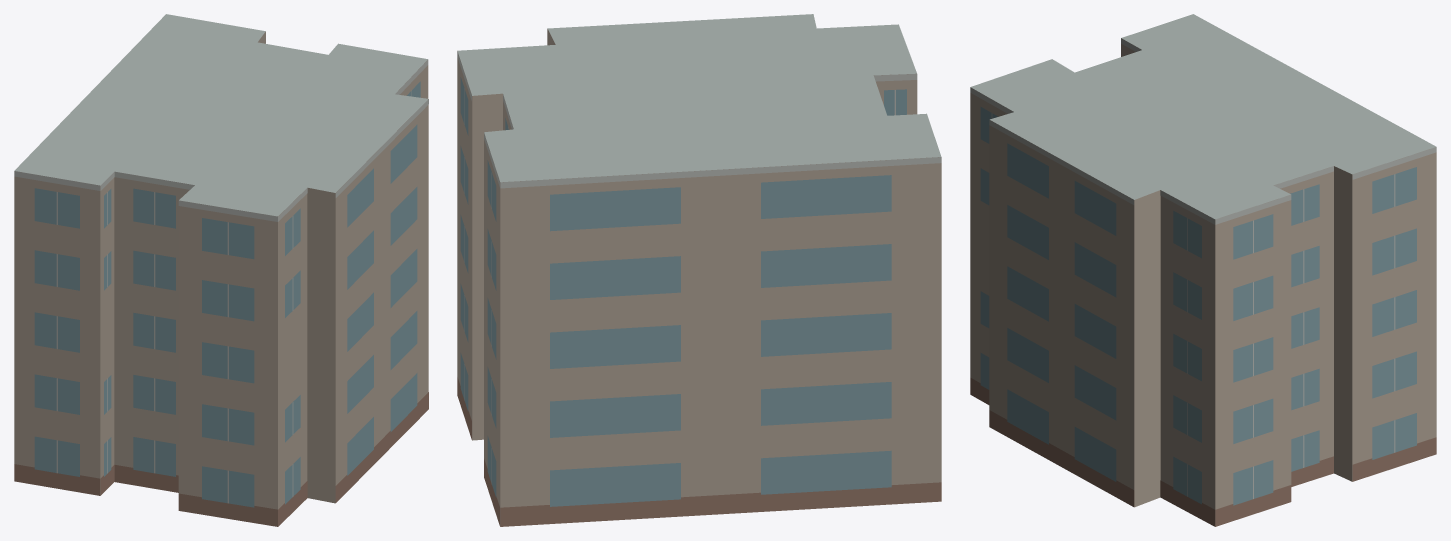
The model's file is survey-upis-32811555.glb.
3 renders of one model, left to right at view 1: azimuth 30°, elevation 25°; view 2: azimuth 150°, elevation 25°; view 3: azimuth 270°, elevation 25°, orthographic. The views are drawn at different scales.
Parts seen in each view (by area): view 1: survey-upis-32811555.tmp; view 2: survey-upis-32811555.tmp; view 3: survey-upis-32811555.tmp.
Boxes of the visible parts, x1,y1,x2,y2 form: survey-upis-32811555.tmp: [14, 14, 428, 526]; survey-upis-32811555.tmp: [457, 14, 941, 526]; survey-upis-32811555.tmp: [970, 14, 1436, 526].
Bounding box in the file's own units: 19.5 × 13.6 × 18.7.
